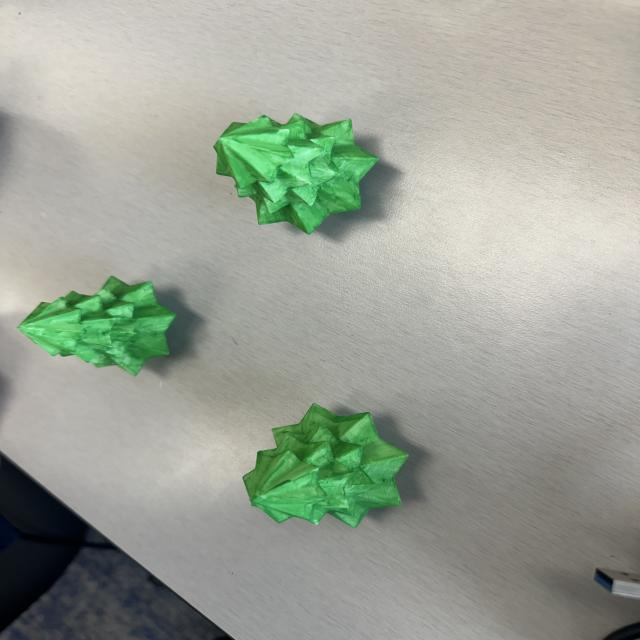tree: (239, 404, 411, 530), (209, 114, 382, 235), (15, 276, 176, 376)
